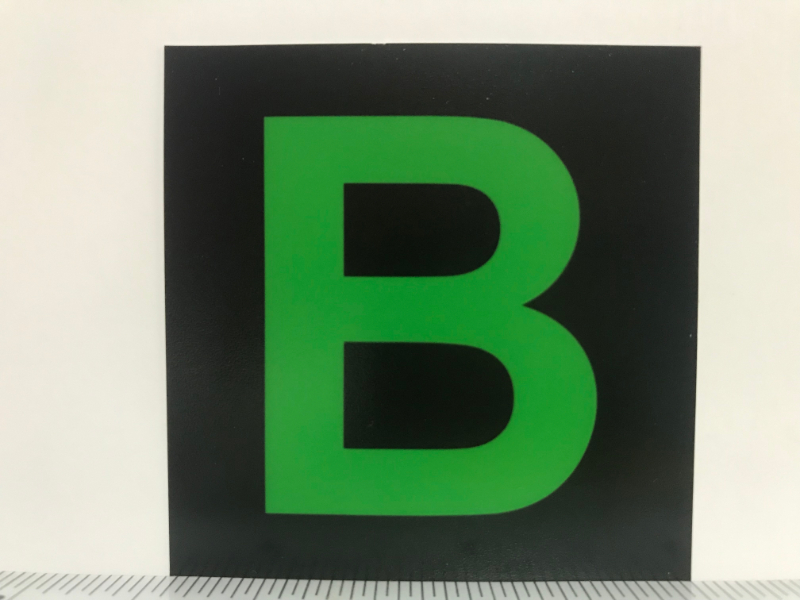B-12: (169, 48, 691, 578)
